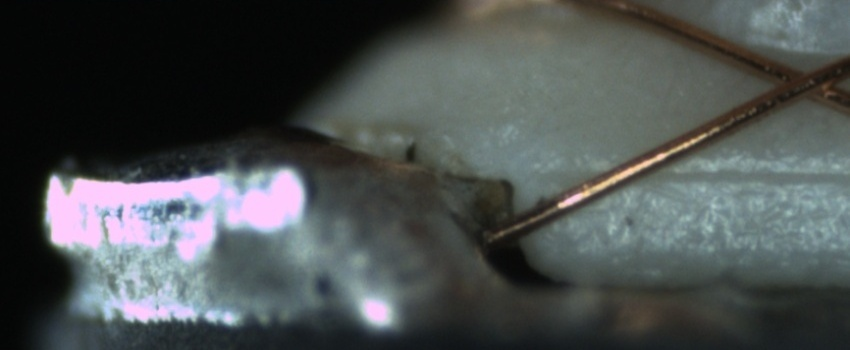CL: (757, 54, 847, 110)
DL: (569, 145, 844, 205)
